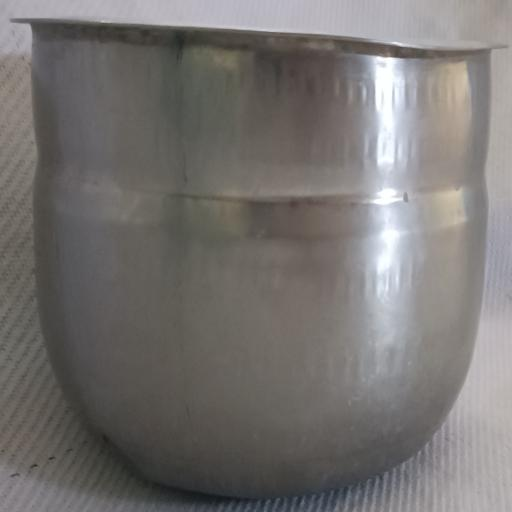vessel: (14, 18, 502, 497)
